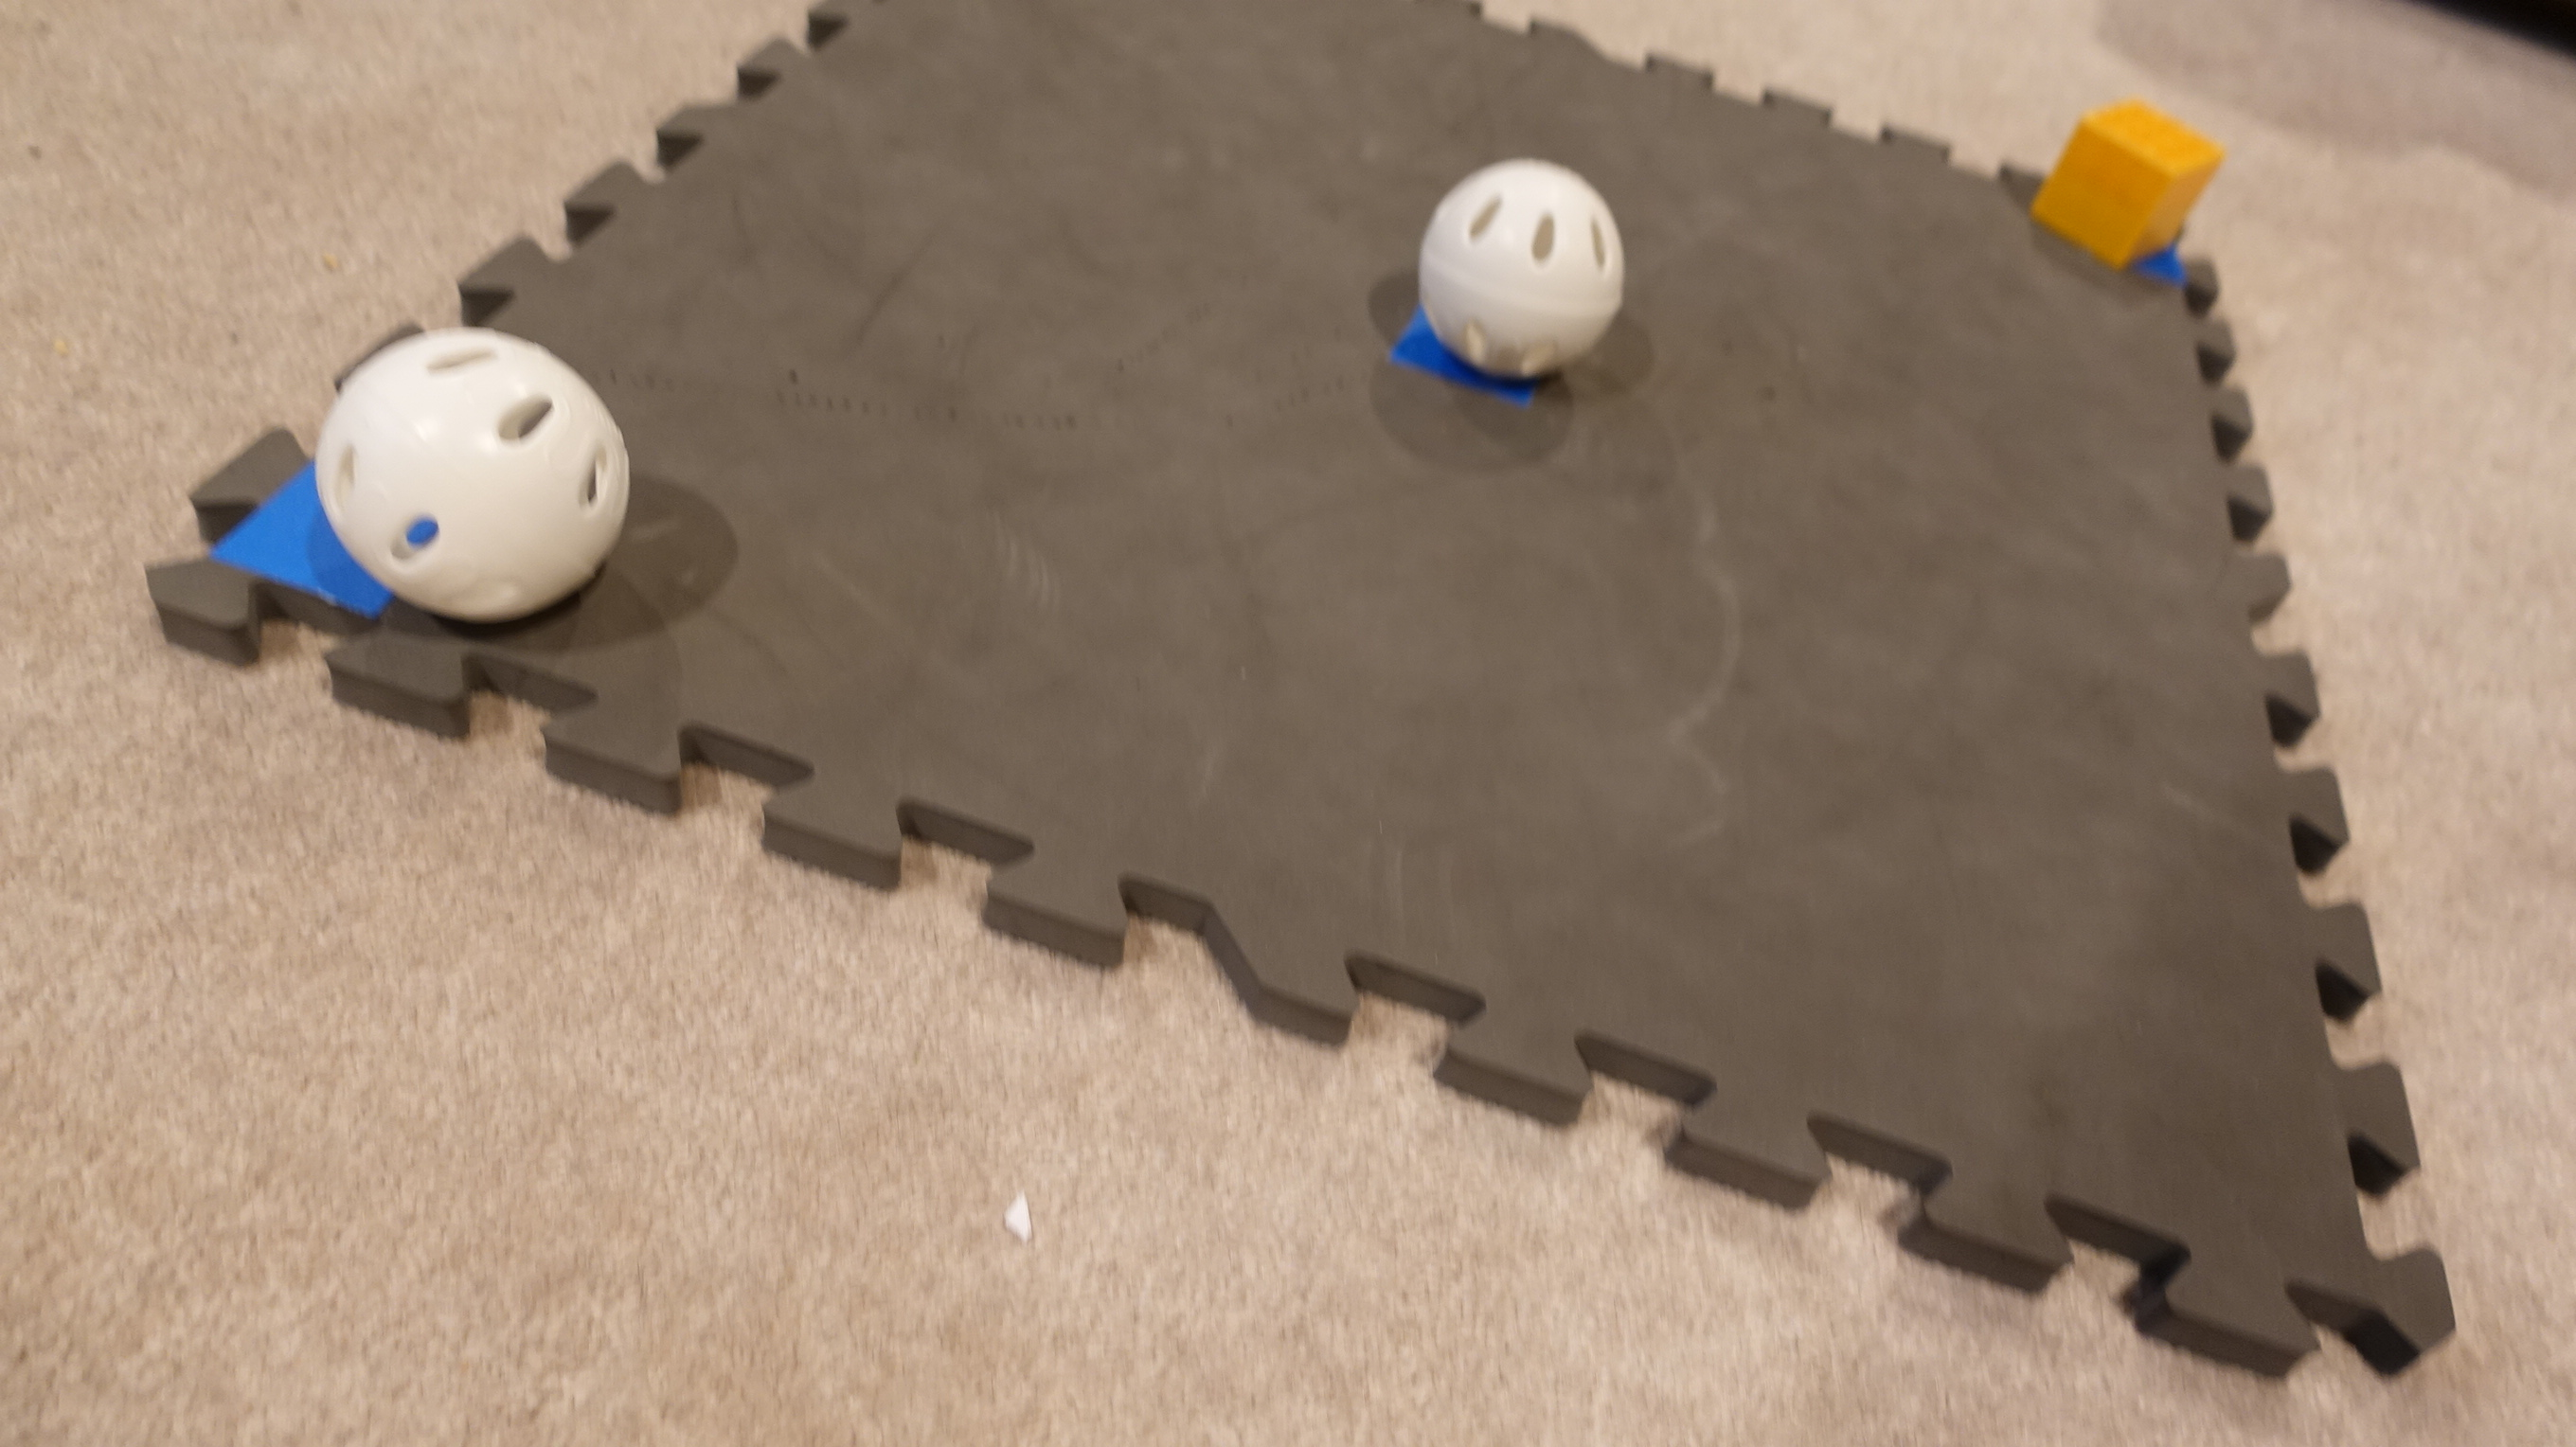gold: (2022, 92, 2229, 269)
silver: (317, 320, 648, 617), (1417, 150, 1656, 379)
